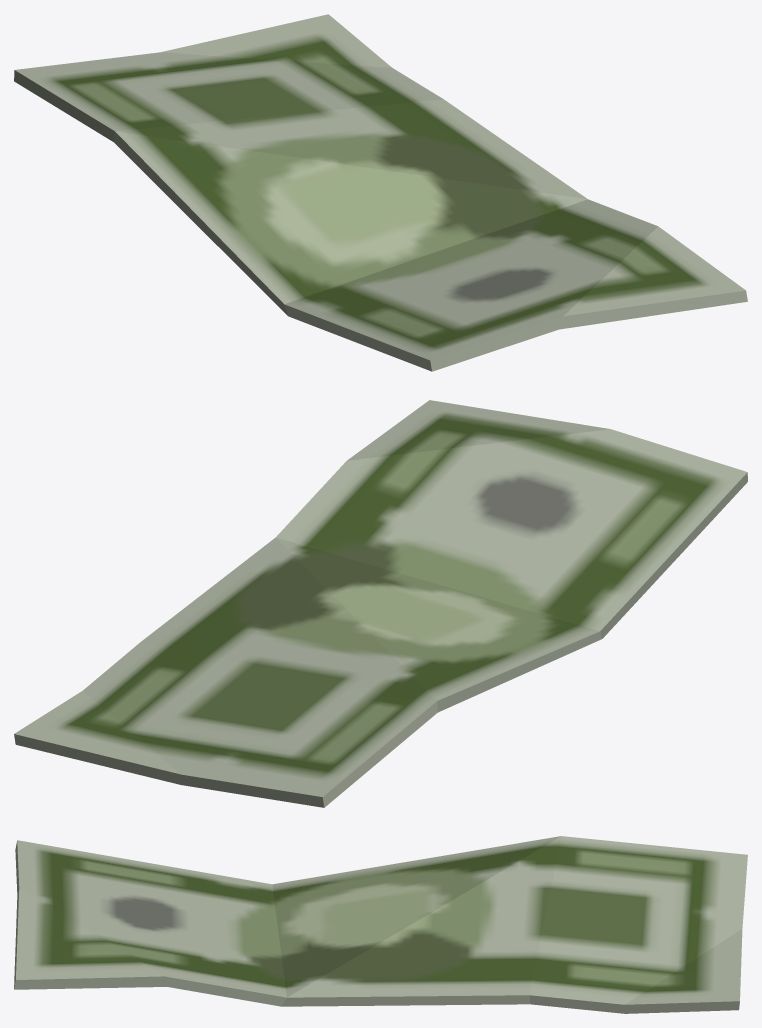
Rendered from SM_Prop_Money_03.fbx.
3 renders of one model, top to bottom at view 1: azimuth 30°, elevation 25°; view 2: azimuth 150°, elevation 25°; view 3: azimuth 270°, elevation 25°, orthographic. The views are drawn at different scales.
Visible parts, largest first — view 1: SM_Prop_Money_03; view 2: SM_Prop_Money_03; view 3: SM_Prop_Money_03.
Part boxes in pixels (x1,y1,x2,y2): SM_Prop_Money_03: (14,14,747,371); SM_Prop_Money_03: (14,400,747,807); SM_Prop_Money_03: (14,836,747,1013).
Bounding box in the file's own units: 11.43 × 2.42 × 25.86.
